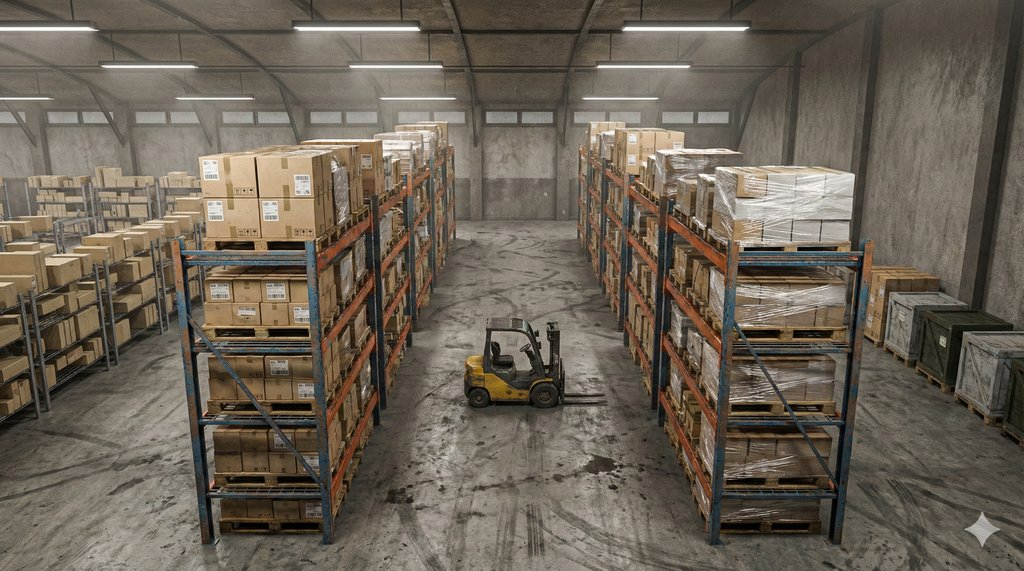forklift: (433, 268, 641, 415)
spill: (376, 446, 644, 530)
